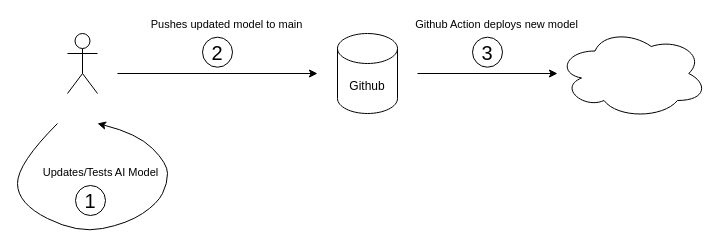
Some shapes in this 725 by 247 pixel diagram are drawn without their labels. Each missing label, with the centre of its shape:
"Data Scientist" belongs at point (82, 63).
"Hugging Face" belongs at point (632, 73).
